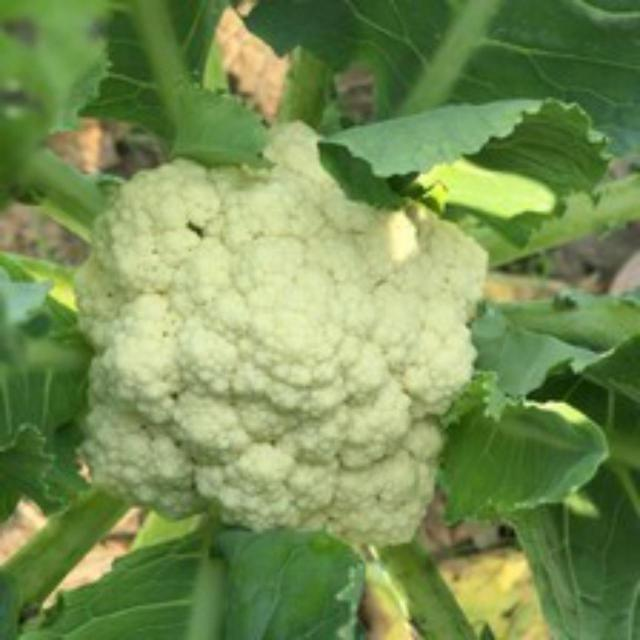cauliflower: (88, 158, 496, 562)
